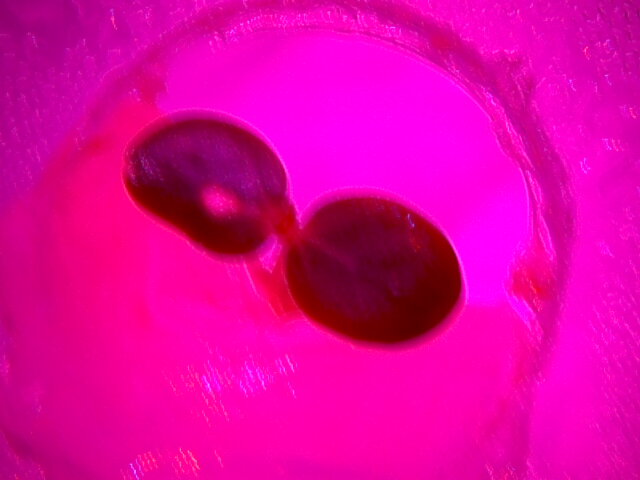seedling: (121, 102, 455, 336)
